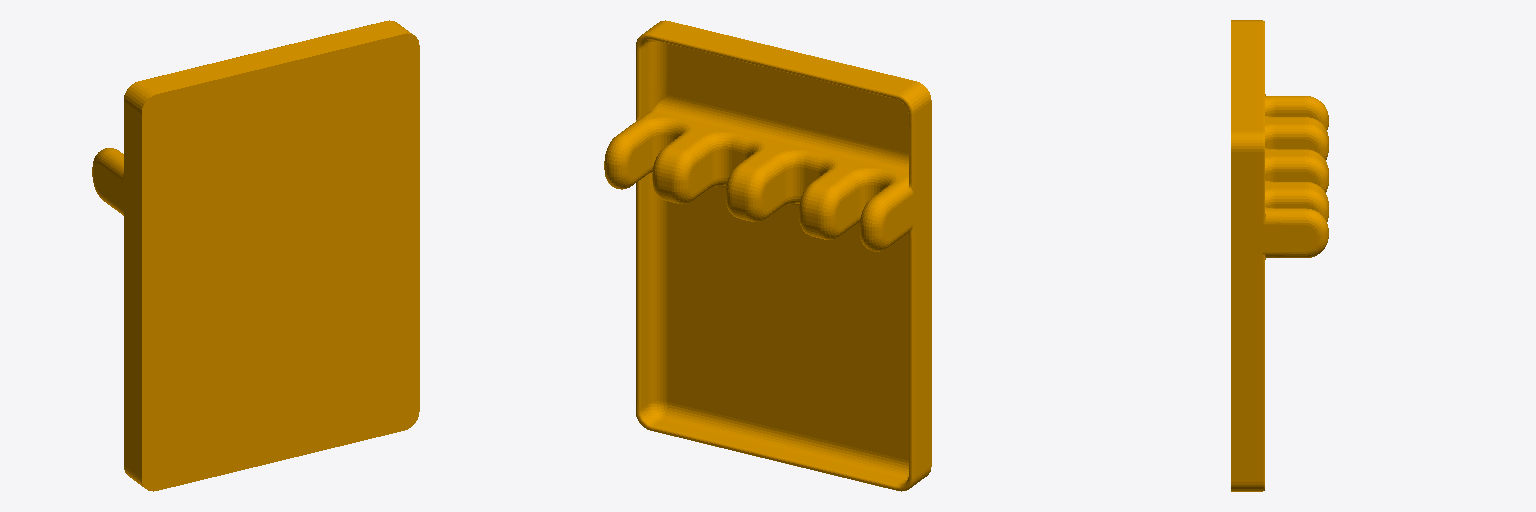
robot.urdf — holder:
<?xml version="1.0" ?>
<robot name="holder">
    <link name="holder">
        <visual>
            <geometry>
                <mesh filename="holder.stl" />
            </geometry>
        </visual>
        <collision>
            <geometry>
                <mesh filename="holder.stl" />
            </geometry>
        </collision>
    </link>
  </robot>

--- Facts derived from the render (not from the file) ---
The picture shows the robot from 3 angles, left to right: view 1: azimuth 30°, elevation 25°; view 2: azimuth 150°, elevation 25°; view 3: azimuth 270°, elevation 25°; orthographic projection.
Model holder with 1 links and 0 joints (none), rooted at holder, posed every joint at zero.
Visible links, largest first — view 1: holder; view 2: holder; view 3: holder.
Link boxes in pixels (x1,y1,x2,y2): holder: [92, 20, 419, 491]; holder: [604, 20, 931, 491]; holder: [1231, 20, 1328, 491].
Size in the robot's own frame: 110 by 37 by 150 metres.
Meshes: 1 distinct files referenced, 1 mesh visuals loaded (1 binary STL).